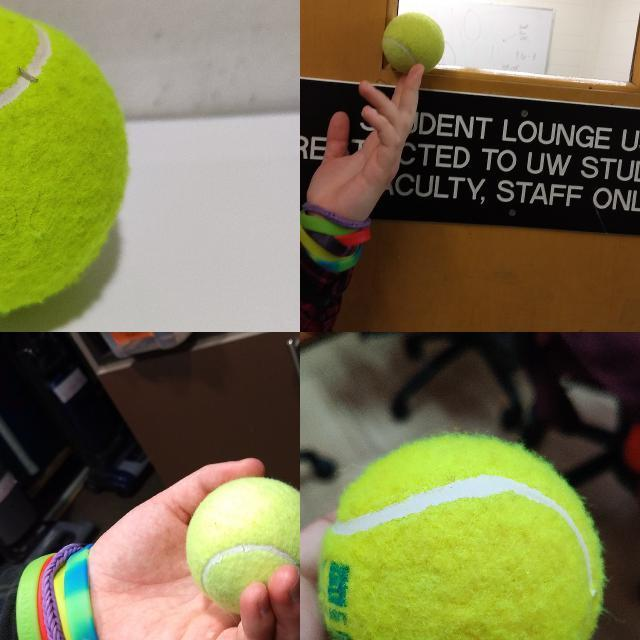tennis-ball: (318, 435, 603, 639), (0, 0, 132, 319), (184, 475, 299, 617), (381, 11, 445, 75)
